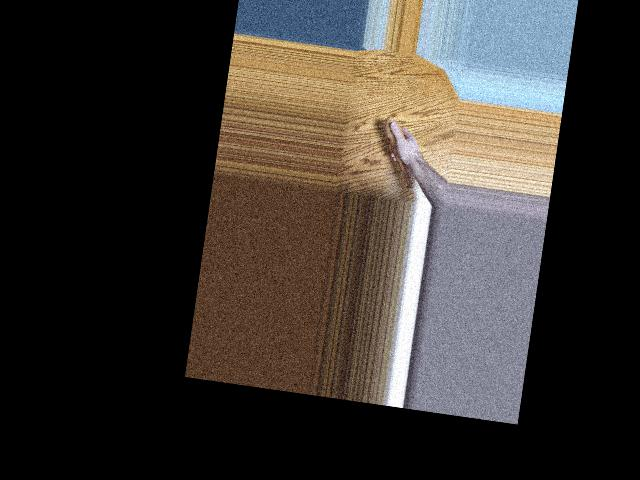sweet_potato: (377, 119, 424, 191)
